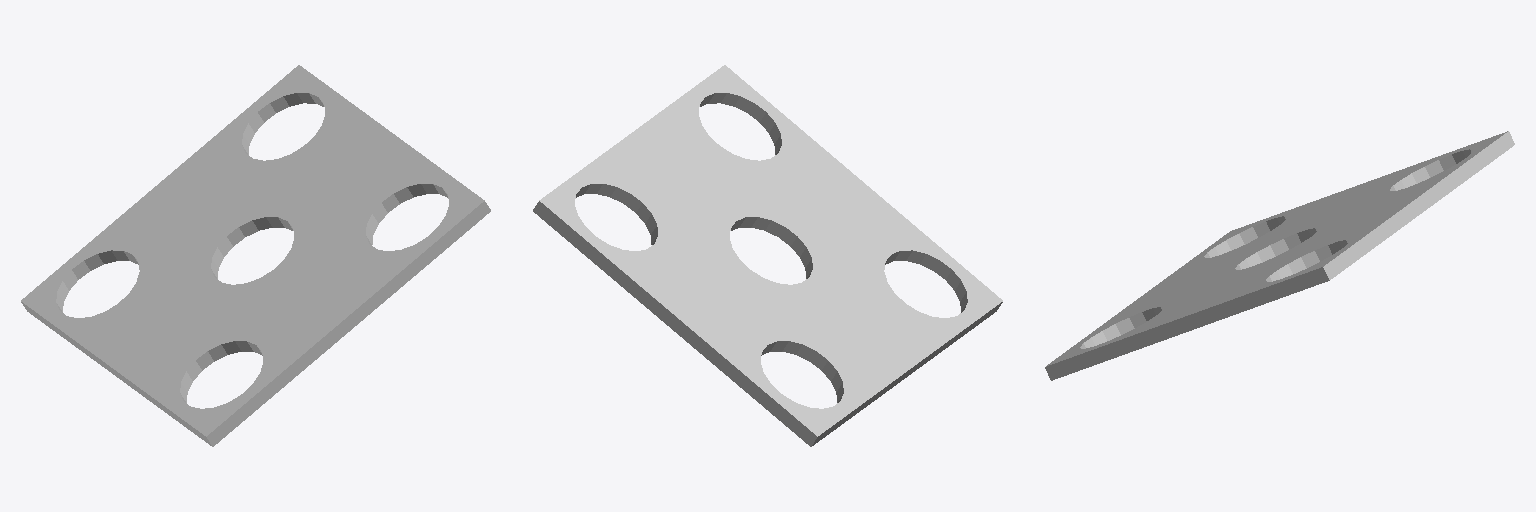
robot.urdf — my_target:
<?xml version="1.0" ?>
<!--
This file is used to build the target in URDF format.
-->
<robot name="my_target" xmlns:xacro="http://www.ros.org/wiki/xacro">

  <link name="world" />
      
  <joint name="fixed" type="fixed">
    <origin xyz="5 0 0" rpy="0 0 0" />
    <parent link="world" />
    <child link="target_link" />
  </joint>

  <link name="target_link">
    <visual>
      <origin xyz="0 0 0.5" rpy="0 -0.523599 0"/>
      <geometry>
        <mesh filename="package://robot_simulation/target_description/meshes/Target_Update.STL" scale="0.001 0.001 0.001"/>
      </geometry>
      
      <material name="grey">
        <color rgba="0.8 0.8 0.8 1"/>
      </material>
    </visual>

    <collision>
      <origin xyz="0 0 0.5" rpy="0 -0.523599 0"/>
      <geometry>
        <mesh filename="package://robot_simulation/target_description/meshes/Target_Update.STL" scale="0.001 0.001 0.001"/>
      </geometry>
    </collision>

    <inertial>
      <mass value="100"/>
      <origin xyz="0 0 0.5" rpy="0 -0.523599 0"/>
      <inertia ixx="1" ixy="0.0" ixz="0.0" iyy="1" iyz="0.0" izz="1"/>
    </inertial>    
  </link>

</robot>

--- Render facts (derived) ---
The picture shows the robot from 3 angles, left to right: view 1: azimuth 30°, elevation 25°; view 2: azimuth 150°, elevation 25°; view 3: azimuth 330°, elevation 25°; orthographic projection.
Model my_target with 2 links and 1 joints (1 fixed), rooted at world, posed all joints at 0.
Visible links, largest first — view 1: target_link; view 2: target_link; view 3: target_link.
Boxes of the visible links, x1=… form: target_link: x1=21, y1=65, x2=490, y2=446; target_link: x1=533, y1=65, x2=1002, y2=446; target_link: x1=1045, y1=131, x2=1514, y2=380.
Size in the robot's own frame: 0.5406 by 0.6096 by 0.3268 metres.
1 mesh visuals loaded from 1 distinct referenced files (1 binary STL).